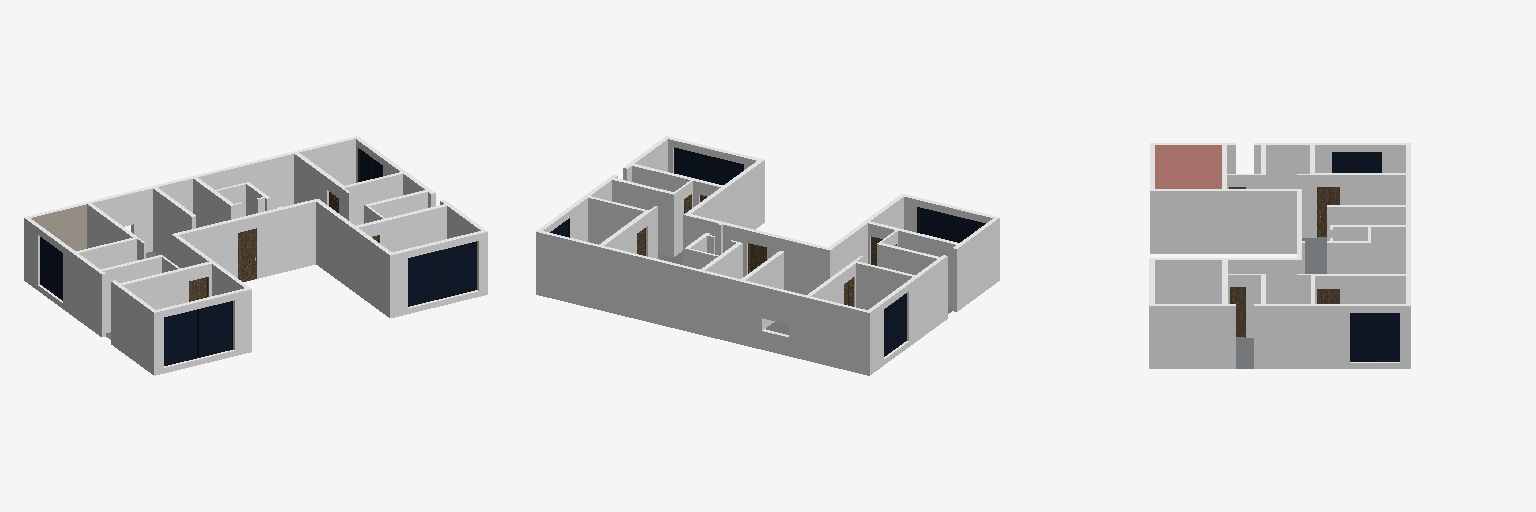
3 renders of one model, left to right at view 1: azimuth 30°, elevation 25°; view 2: azimuth 150°, elevation 25°; view 3: azimuth 270°, elevation 25°, orthographic.
Visible parts, largest first — view 1: Mesh1 Group1 Model, Mesh2 Group2 Model, Mesh3 Group3 Model, Mesh4 Group4 Model, Mesh50 Group40 Group38 Group36 Model, Mesh5 Group5 Model; view 2: Mesh1 Group1 Model, Mesh3 Group3 Model, Mesh2 Group2 Model, Mesh4 Group4 Model; view 3: Mesh1 Group1 Model, Mesh5 Group5 Model, Mesh55 Model, Mesh4 Group4 Model, Mesh6 Group7 Group6 Model, Mesh41 Group32 Group31 Model.
Boxes of the visible parts, x1,y1,x2,y2 form: Mesh1 Group1 Model: [24, 136, 487, 375]; Mesh2 Group2 Model: [164, 301, 232, 365]; Mesh3 Group3 Model: [408, 241, 476, 306]; Mesh4 Group4 Model: [40, 237, 62, 300]; Mesh50 Group40 Group38 Group36 Model: [239, 230, 255, 281]; Mesh5 Group5 Model: [358, 148, 382, 181]; Mesh1 Group1 Model: [536, 136, 999, 375]; Mesh3 Group3 Model: [674, 147, 743, 184]; Mesh2 Group2 Model: [917, 207, 985, 242]; Mesh4 Group4 Model: [884, 293, 906, 356]; Mesh1 Group1 Model: [1149, 143, 1410, 368]; Mesh5 Group5 Model: [1350, 313, 1399, 361]; Mesh55 Model: [1236, 237, 1326, 368]; Mesh4 Group4 Model: [1332, 152, 1381, 172]; Mesh6 Group7 Group6 Model: [1317, 187, 1339, 237]; Mesh41 Group32 Group31 Model: [1230, 287, 1245, 337].
Bounding box in the file's own units: 55.47 × 10 × 37.63.
9 materials, 1 textured.